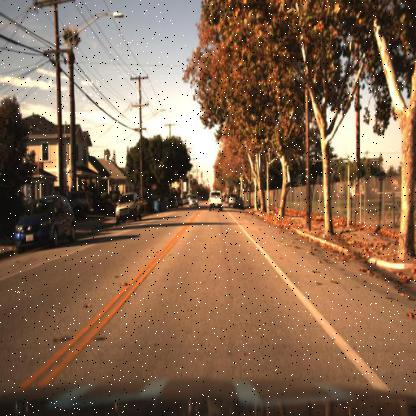car: (14, 194, 76, 254), (60, 188, 94, 219), (113, 189, 141, 225), (114, 191, 144, 223), (208, 187, 224, 212), (232, 191, 247, 211), (188, 194, 198, 212)
